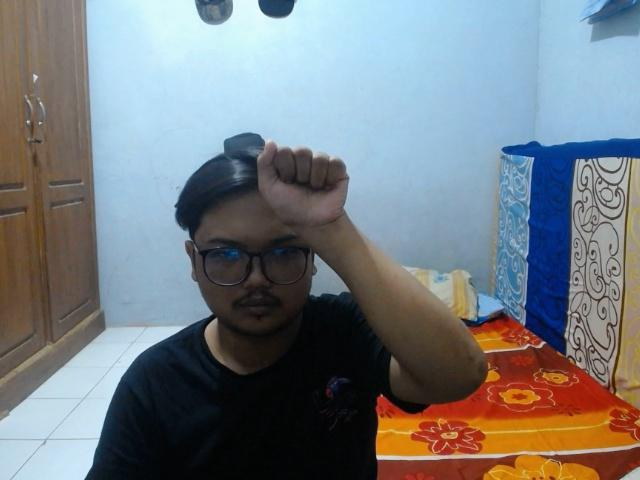Grab: (253, 134, 356, 234)
